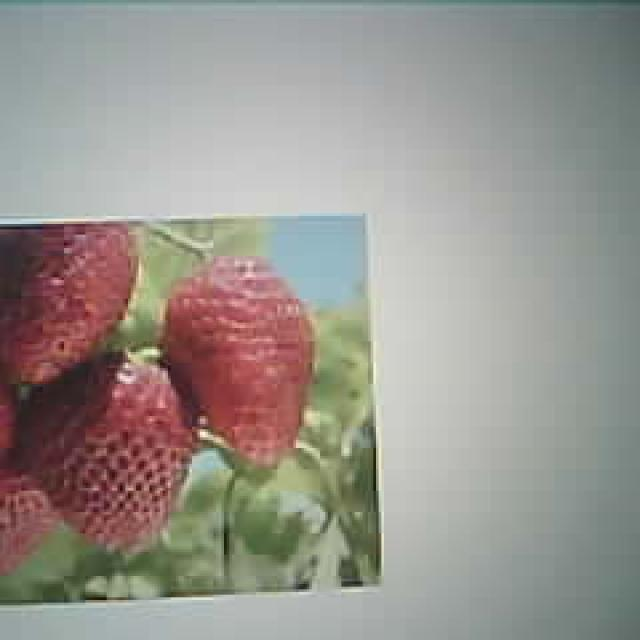strawberry: (30, 360, 194, 550), (168, 256, 316, 460), (0, 225, 138, 382)
